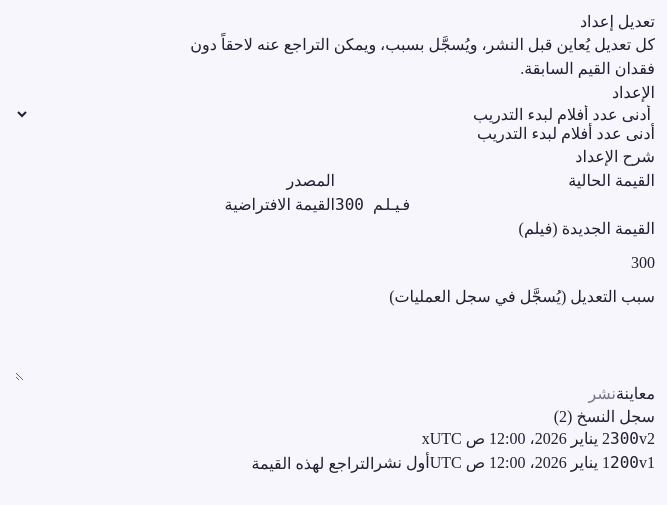
Test: SettingsAdmin › rolls back to a historical version
Click the button "التراجع لهذه القيمة" at (313, 464), box top-left (251, 451), bottom-right (374, 477)
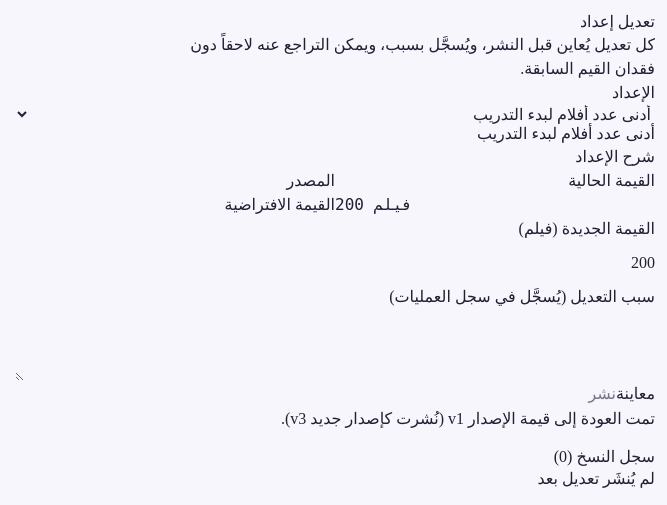
Expected: the text "تمت العودة إلى قيمة الإصدار v1 (نُشرت كإصدار جديد v3)." is shown, top-left (281, 410), bottom-right (655, 427)
